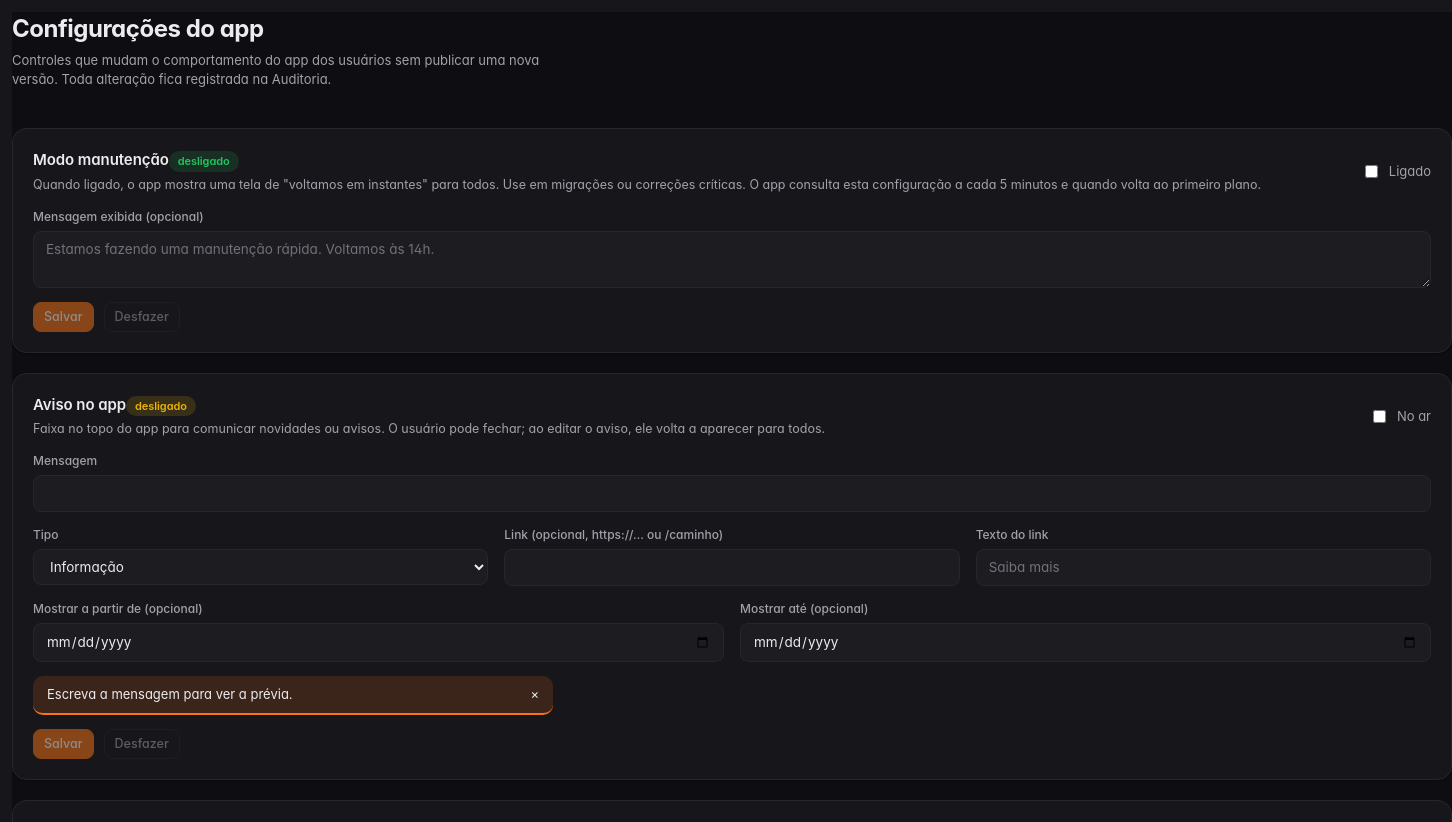
Test: AppSettings › manutenção: mostra erro ao salvar
This screenshot has width=1452, height=822.
Expected: the heading "Modo manutenção desligado" is shown, x1=33 y1=150 x2=239 y2=172
Click the checkbox labelled "Ligado" at [1371, 172], box x1=1365 y1=165 x2=1378 y2=178
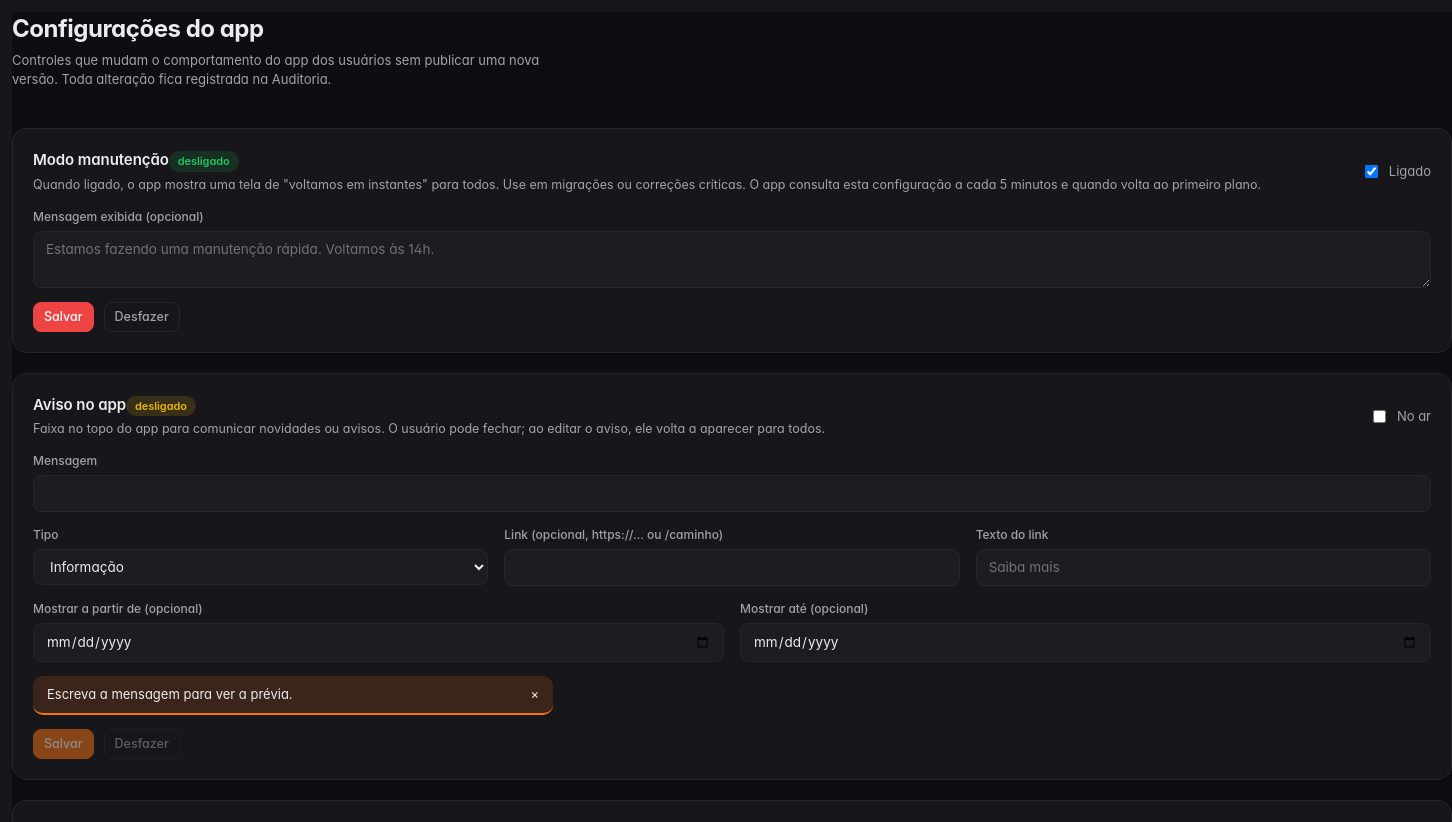
Click the button "Salvar" below "Mensagem exibida (opcional)" at [63, 317], box x1=33 y1=302 x2=94 y2=332
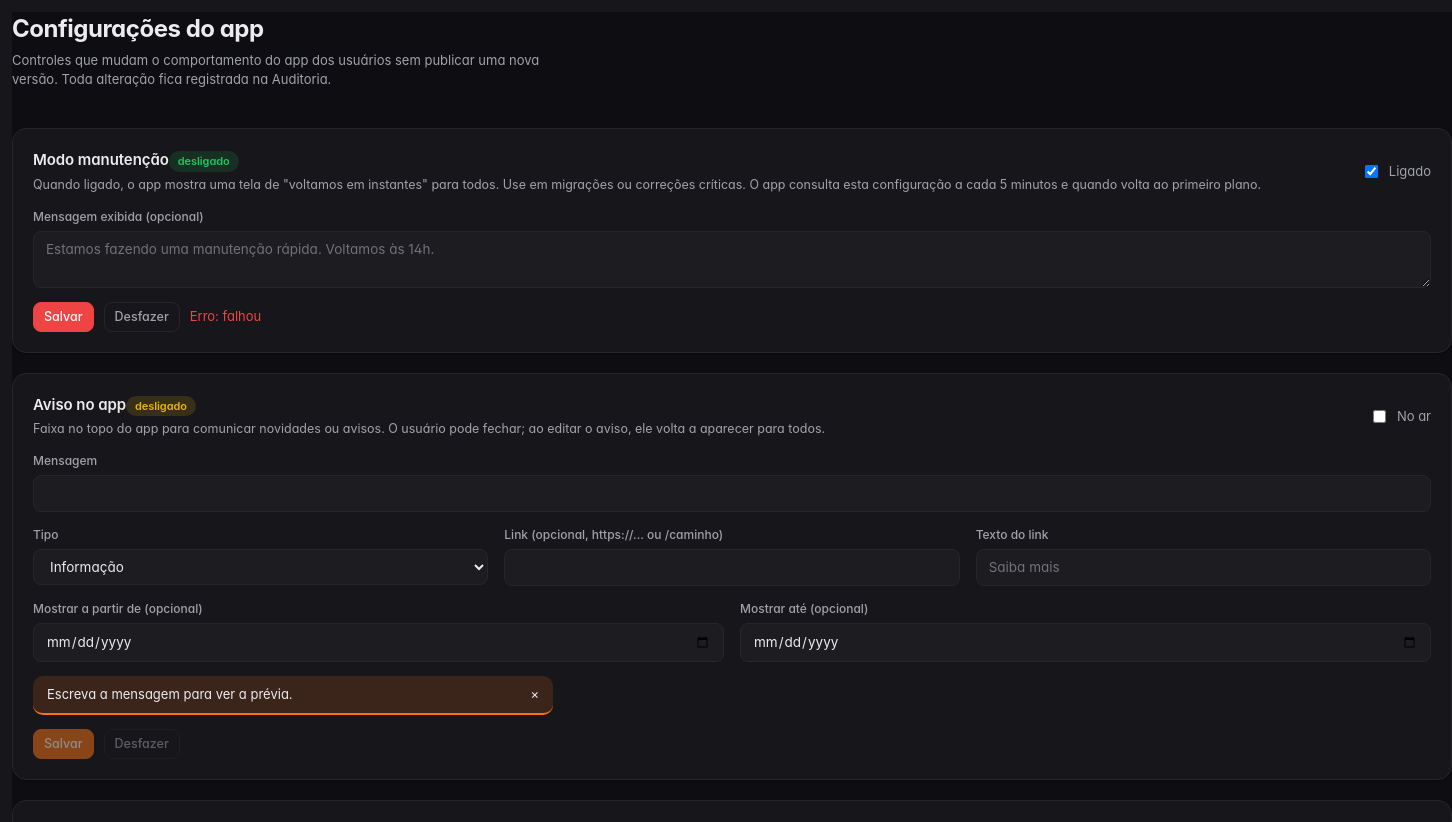
Now the text "Erro: falhou" is shown, box x1=190 y1=307 x2=261 y2=326
